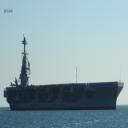Portanaves: (4, 26, 126, 113)
